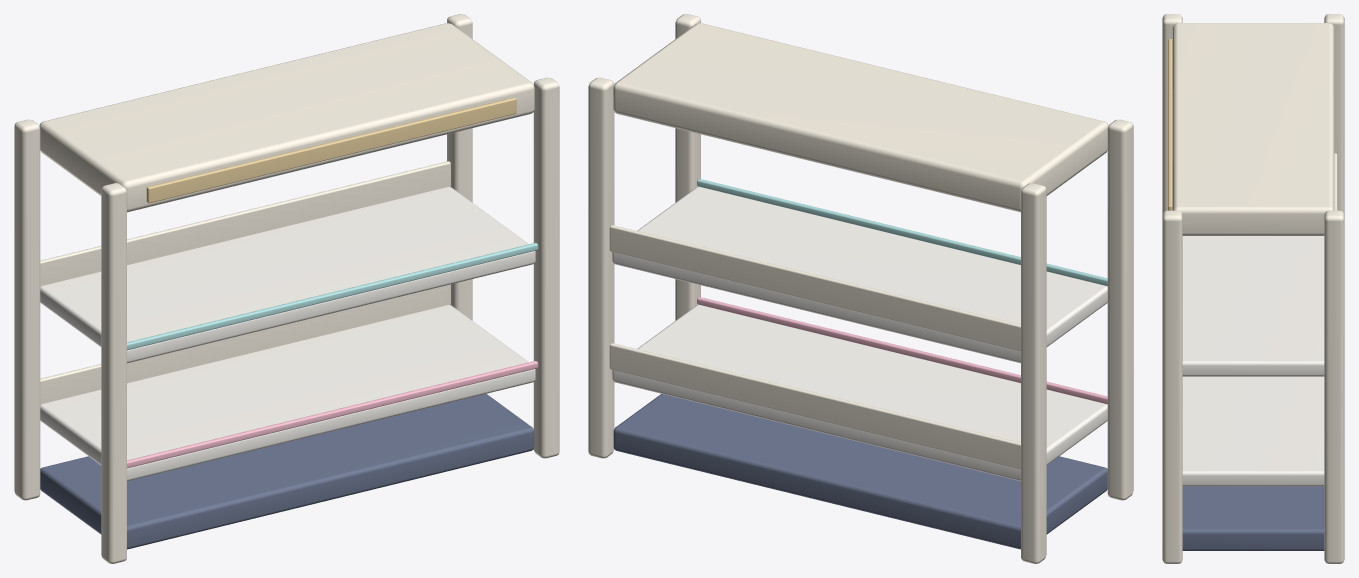
The model's file is DisplayRack.fbx.
3 renders of one model, left to right at view 1: azimuth 30°, elevation 25°; view 2: azimuth 150°, elevation 25°; view 3: azimuth 270°, elevation 25°, orthographic. The views are drawn at different scales.
Parts seen in each view (by area): view 1: Header, Shelf0, Shelf1, BaseRail, ShelfBackStop1, FrameLBack, FrameRFront, FrameLFront, ShelfBackStop0, HeaderFrontBand, ShelfFrontLip0, ShelfFrontLip1 (+1 smaller); view 2: Header, BaseRail, Shelf0, Shelf1, ShelfBackStop0, ShelfBackStop1, FrameLFront, FrameRBack, FrameLBack, ShelfFrontLip0, ShelfFrontLip1, FrameRFront; view 3: Header, Shelf1, Shelf0, BaseRail, FrameRBack, FrameRFront, FrameLBack, FrameLFront, HeaderFrontBand.
Part boxes in pixels (x1,y1,x2,y2): Header: [39, 23, 534, 212]; Shelf0: [40, 305, 535, 481]; Shelf1: [40, 187, 535, 363]; BaseRail: [40, 394, 534, 549]; ShelfBackStop1: [40, 161, 450, 286]; FrameLBack: [14, 119, 40, 500]; FrameRFront: [533, 77, 559, 458]; FrameLFront: [101, 183, 126, 563]; ShelfBackStop0: [40, 284, 450, 404]; HeaderFrontBand: [146, 97, 516, 203]; ShelfFrontLip0: [127, 361, 538, 468]; ShelfFrontLip1: [127, 243, 538, 350]; Header: [613, 23, 1108, 212]; BaseRail: [613, 394, 1107, 549]; Shelf0: [612, 305, 1107, 481]; Shelf1: [612, 187, 1107, 363]; ShelfBackStop0: [609, 343, 1020, 469]; ShelfBackStop1: [609, 225, 1020, 351]; FrameLFront: [1107, 119, 1133, 500]; FrameRBack: [588, 77, 614, 458]; FrameLBack: [1021, 183, 1046, 563]; ShelfFrontLip0: [697, 297, 1107, 404]; ShelfFrontLip1: [697, 179, 1107, 286]; FrameRFront: [675, 14, 700, 320]; Header: [1172, 23, 1334, 235]; Shelf1: [1182, 236, 1324, 376]; Shelf0: [1182, 376, 1324, 486]; BaseRail: [1182, 486, 1324, 550]; FrameRBack: [1324, 210, 1344, 563]; FrameRFront: [1162, 210, 1182, 563]; FrameLBack: [1324, 14, 1344, 214]; FrameLFront: [1162, 14, 1182, 214]; HeaderFrontBand: [1168, 39, 1172, 210].
Size of the model in its own units: 240 by 190 by 90.
